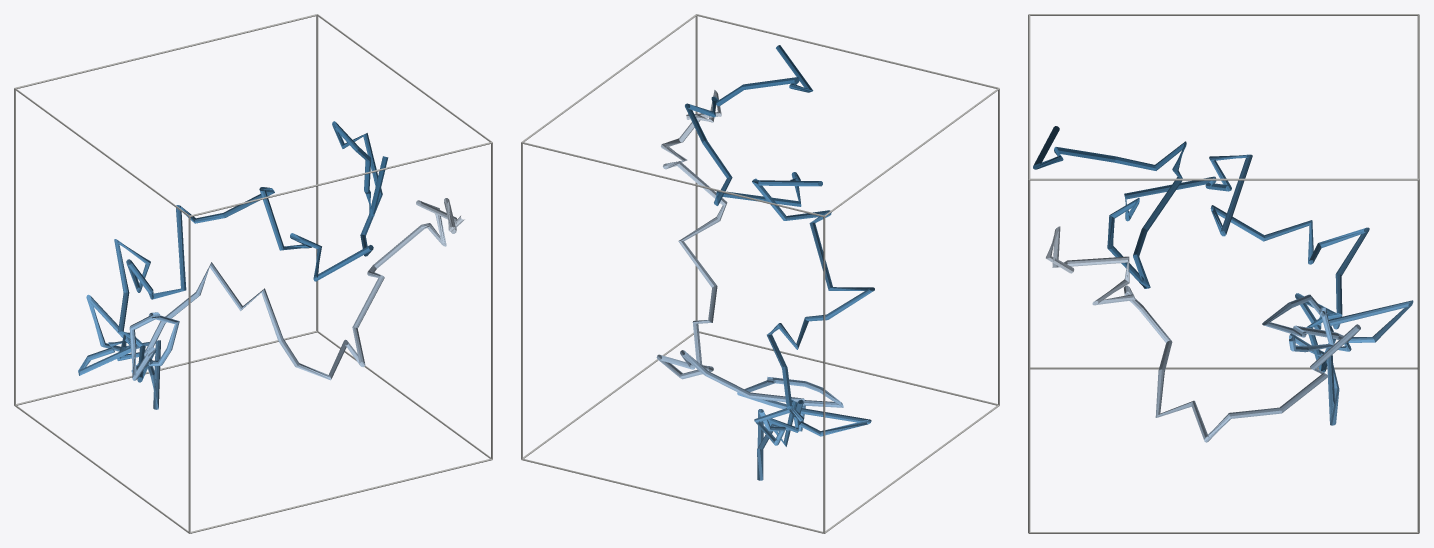
The picture shows the model from 3 angles, left to right: view 1: azimuth 30°, elevation 25°; view 2: azimuth 150°, elevation 25°; view 3: azimuth 270°, elevation 25°; orthographic projection. The views are drawn at different scales.
Visible parts, largest first — view 1: geometry_0, geometry_1; view 2: geometry_0, geometry_1; view 3: geometry_0, geometry_1.
Boxes of the visible parts, x1,y1,x2,y2 form: geometry_0: (78, 121, 464, 409); geometry_1: (14, 14, 492, 533); geometry_0: (656, 45, 874, 480); geometry_1: (521, 14, 999, 533); geometry_0: (1033, 126, 1413, 442); geometry_1: (1028, 14, 1419, 533).
Bounding box in the file's own units: 0.3016 × 0.302 × 0.3016.
